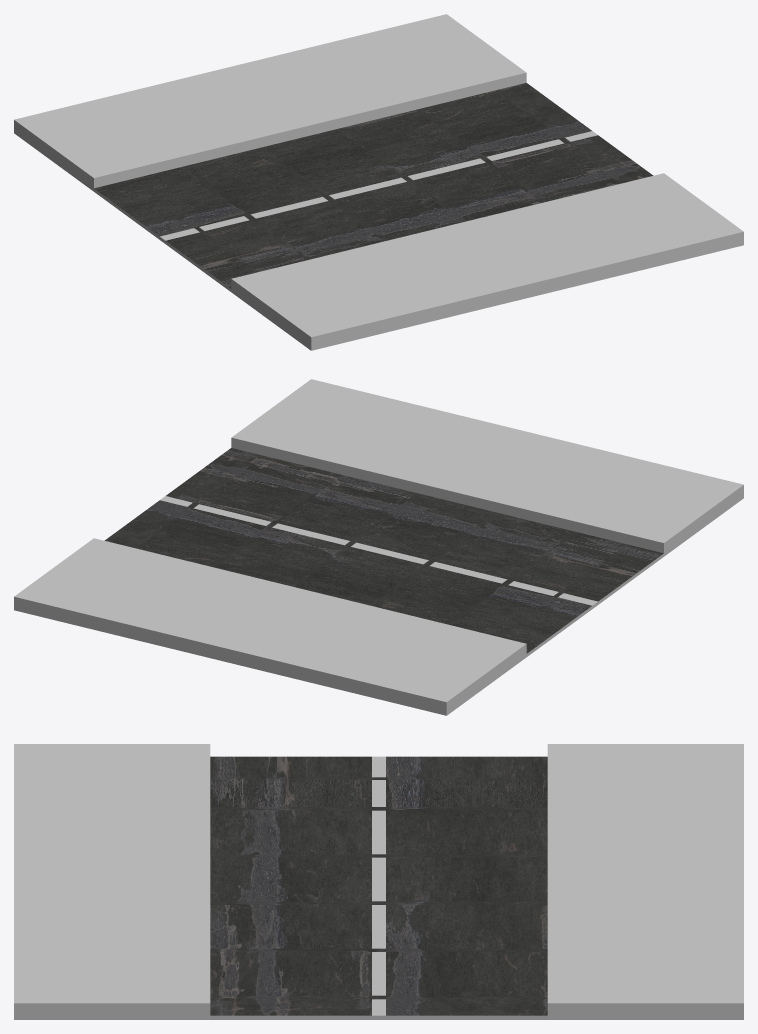
Rendered from duzYolLast.fbx.
The picture shows the model from 3 angles, top to bottom: view 1: azimuth 30°, elevation 25°; view 2: azimuth 150°, elevation 25°; view 3: azimuth 270°, elevation 25°; orthographic projection. The views are drawn at different scales.
Visible parts, largest first — view 1: Plane; view 2: Plane; view 3: Plane.
Boxes of the visible parts, x1=… form: Plane: x1=14, y1=14, x2=743, y2=350; Plane: x1=14, y1=379, x2=743, y2=715; Plane: x1=14, y1=744, x2=743, y2=1019.
Size of the model in its own units: 1000 by 30.07 by 1190.
